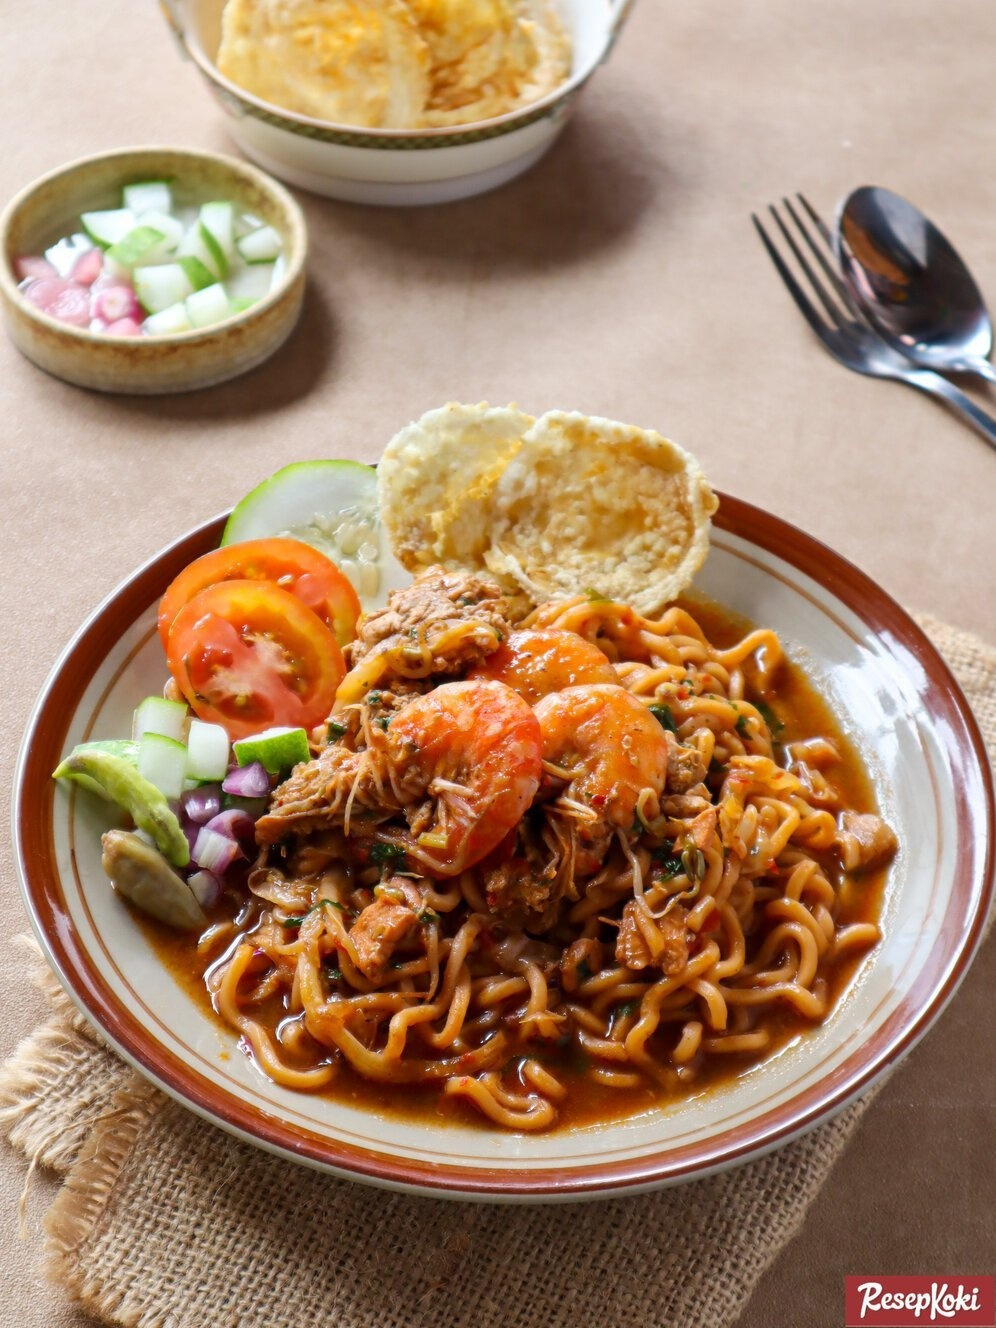mie_aceh: (237, 602, 904, 1135)
